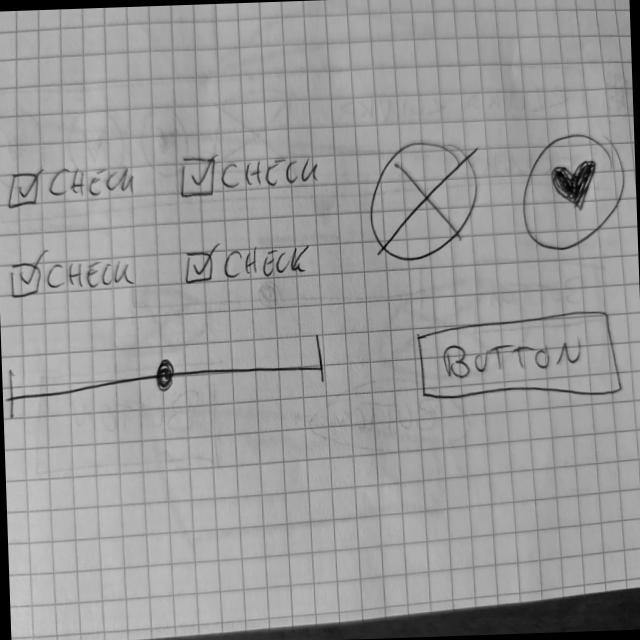button: (414, 306, 624, 404)
checkbox: (176, 148, 321, 200), (5, 161, 136, 210), (8, 254, 136, 302), (183, 240, 314, 286)
slider: (6, 329, 330, 422), (365, 140, 481, 264)
